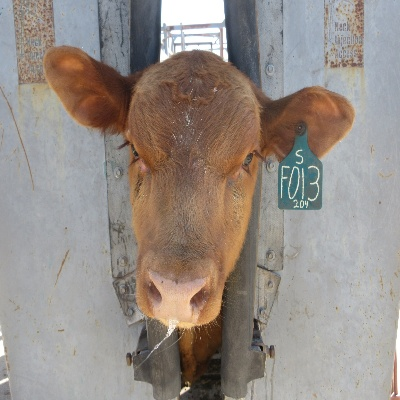fidget_spinner: (145, 265, 211, 327)
